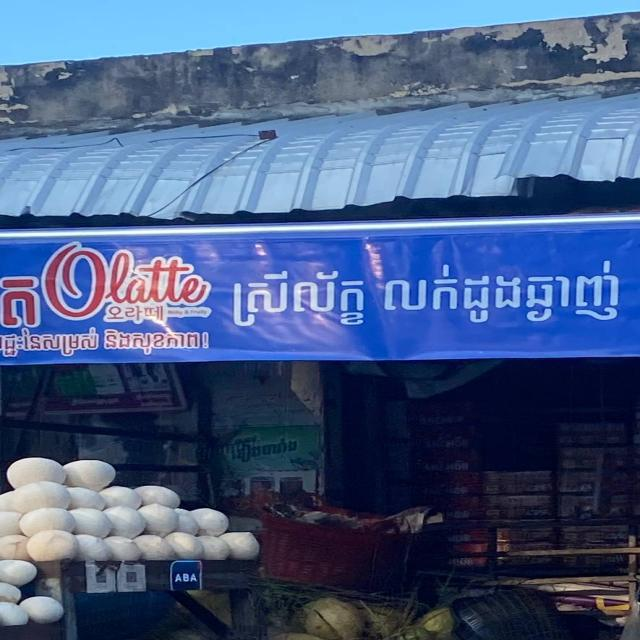Yolov11kh: (223, 253, 630, 334), (1, 321, 216, 360), (1, 269, 44, 331)
